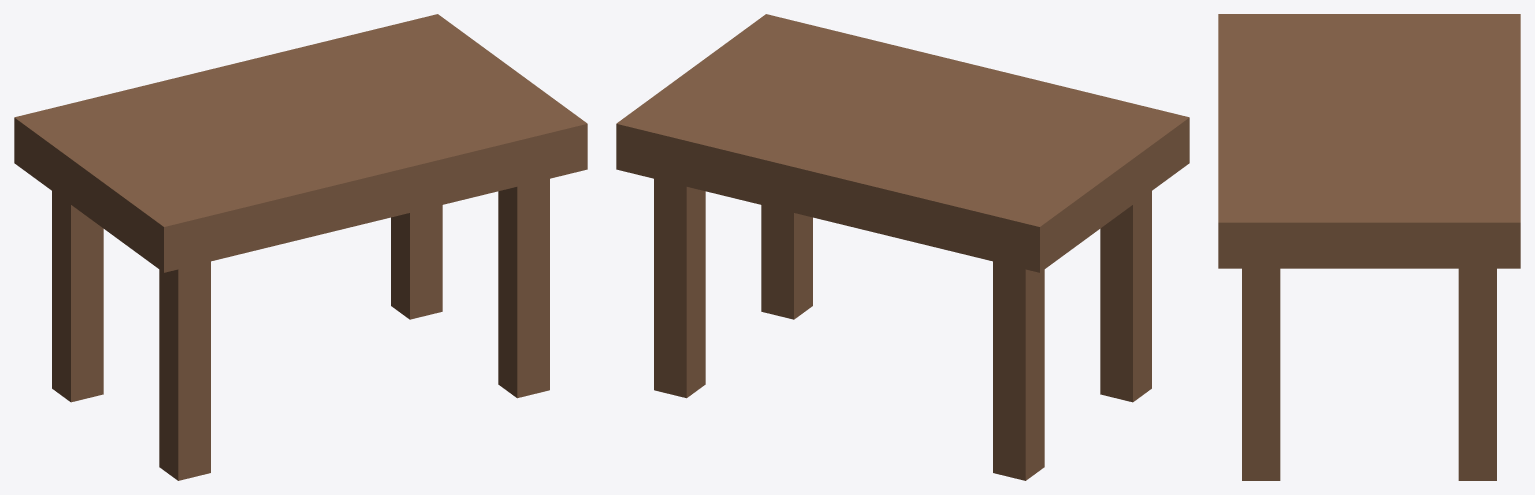
The model's file is table.glb.
The picture shows the model from 3 angles, left to right: view 1: azimuth 30°, elevation 25°; view 2: azimuth 150°, elevation 25°; view 3: azimuth 270°, elevation 25°; orthographic projection.
Parts seen in each view (by area): view 1: table; view 2: table; view 3: table.
Part boxes in pixels (x1=…): table: x1=14, y1=14, x2=587, y2=480; table: x1=616, y1=14, x2=1189, y2=480; table: x1=1218, y1=14, x2=1520, y2=480.
Bounding box in the file's own units: 1.55 × 0.94 × 0.95.
